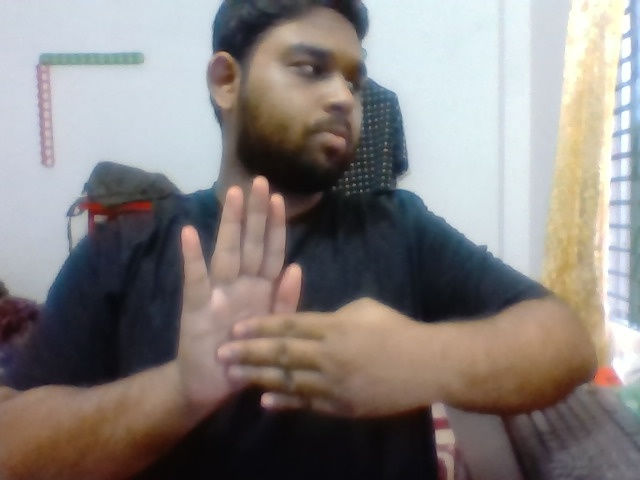H: (165, 171, 431, 437)
